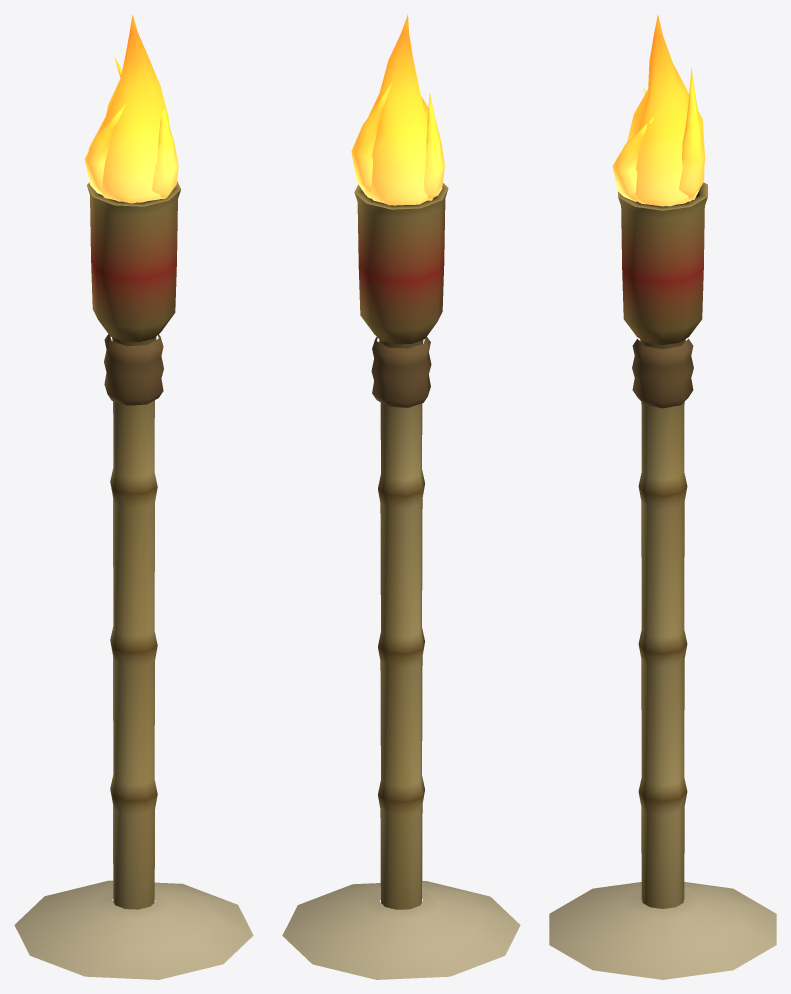
Rendered from tiki_torch.glb.
3 renders of one model, left to right at view 1: azimuth 30°, elevation 25°; view 2: azimuth 150°, elevation 25°; view 3: azimuth 270°, elevation 25°, orthographic.
Visible parts, largest first — view 1: tiki_torch; view 2: tiki_torch; view 3: tiki_torch.
Part boxes in pixels (x1,y1,x2,y2): tiki_torch: (14,15,253,979); tiki_torch: (282,14,520,979); tiki_torch: (549,15,776,979).
Size of the model in its own units: 0.44 by 1.86 by 0.4185.
